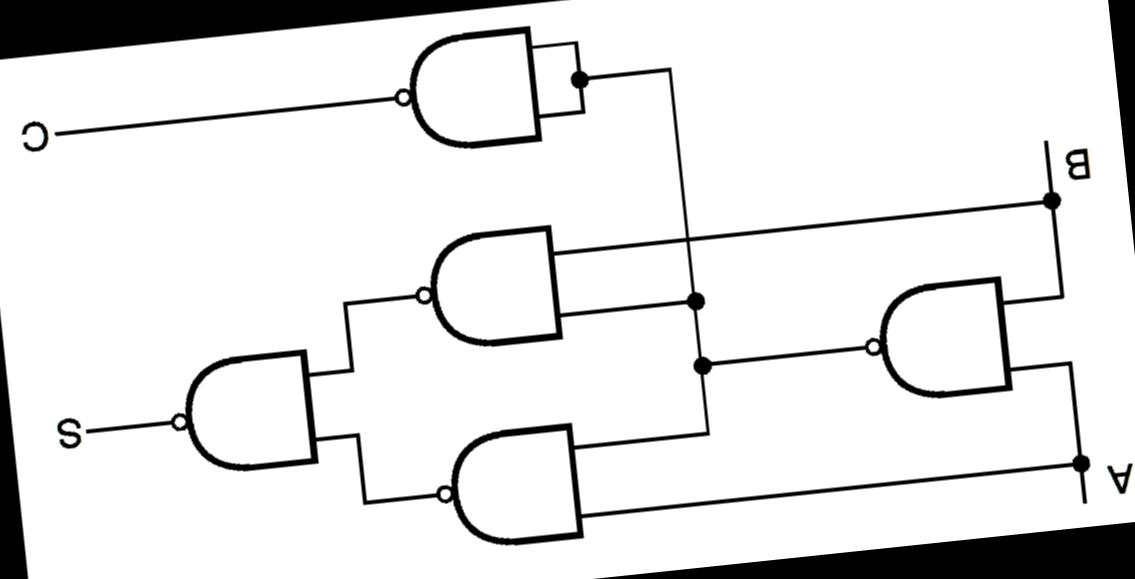nand: (374, 14, 562, 164), (417, 412, 602, 562), (152, 335, 334, 487), (842, 265, 1028, 413), (398, 214, 580, 362)
